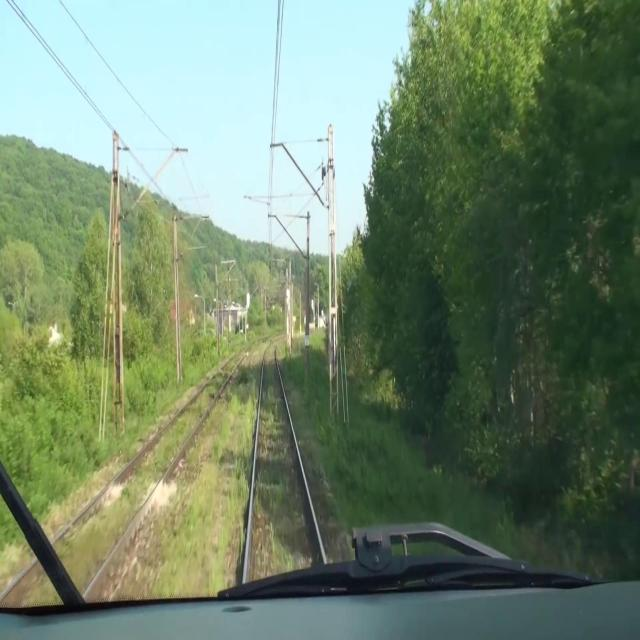rail-track: (0, 351, 244, 607), (246, 344, 323, 585)
